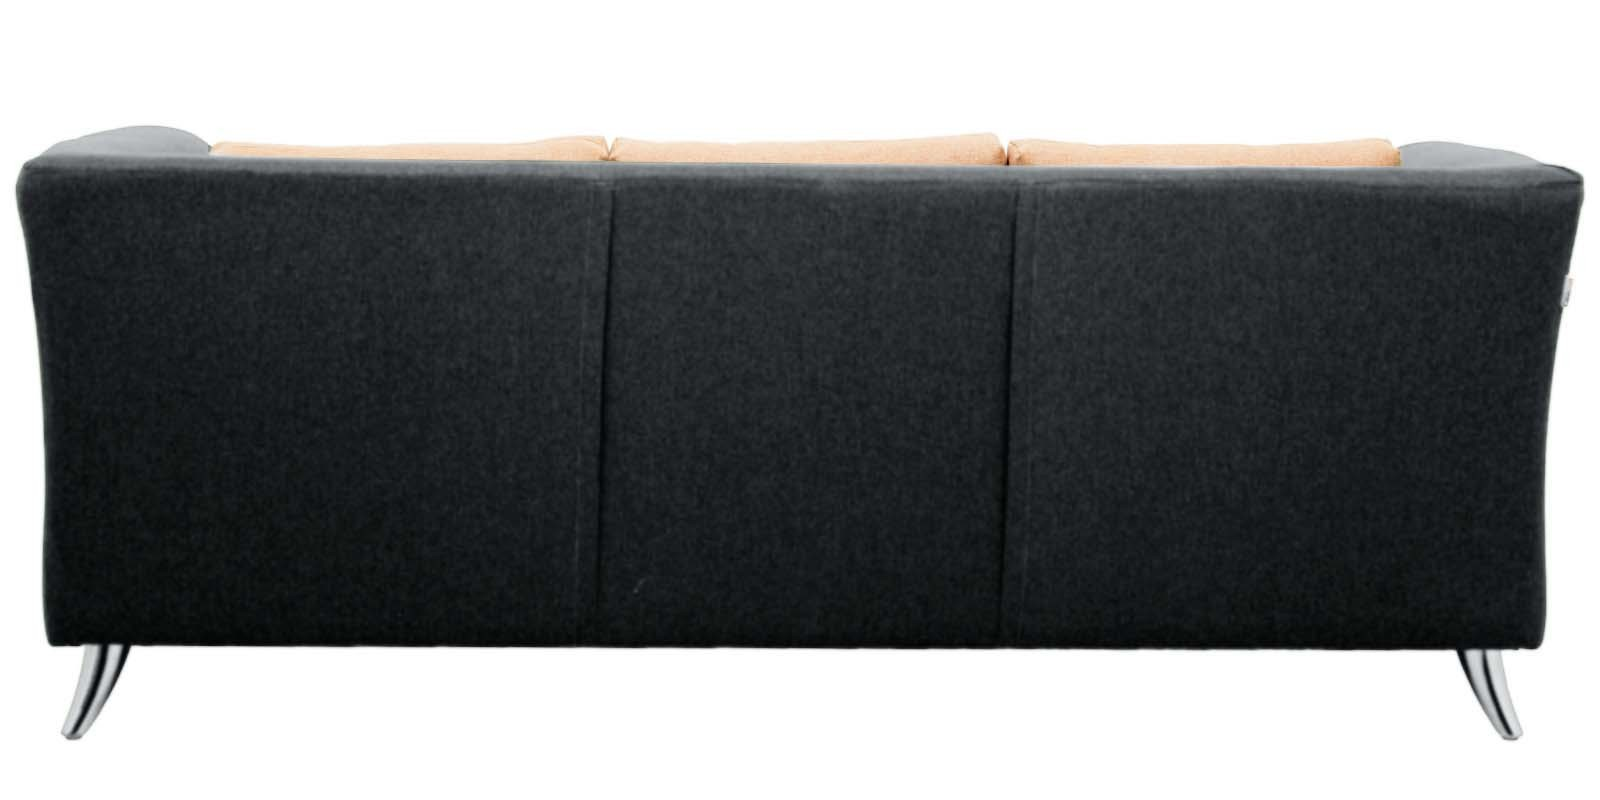Iowa Three Seater Sofa in Steel Grey Colour by Furnitech: (16, 116, 1590, 781)
